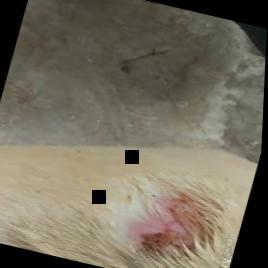skin_lesions: (114, 173, 230, 268)
